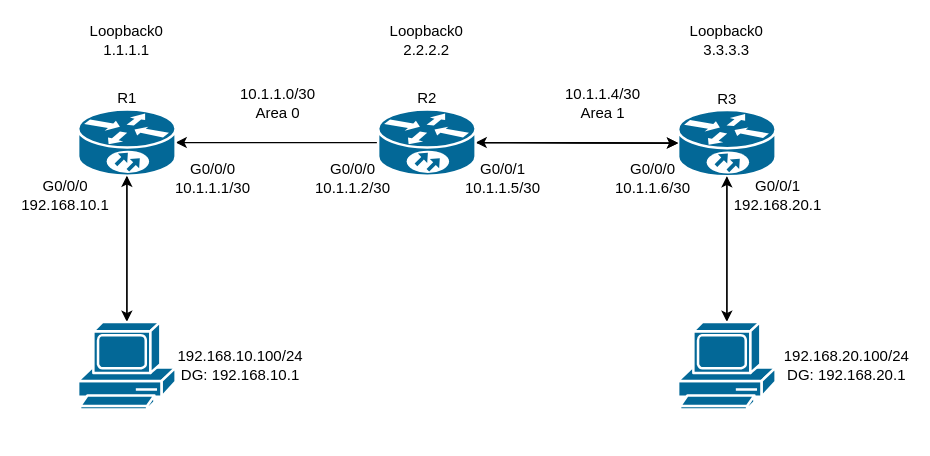
Some shapes in this 930 by 456 pixel diagram are drawn without their labels. The centre of each missing label's shape, as x and y in pixels:
"PC1" goes at point 126,365.
"PC2" goes at point 726,365.
